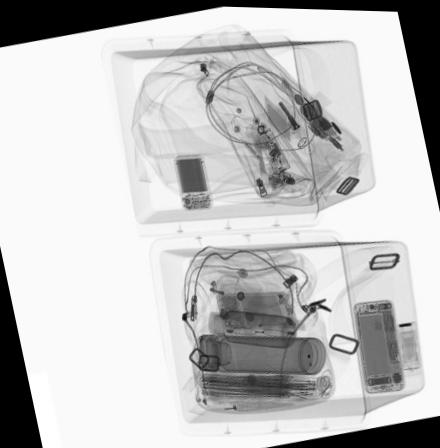Powerbank: (170, 149, 214, 212)
